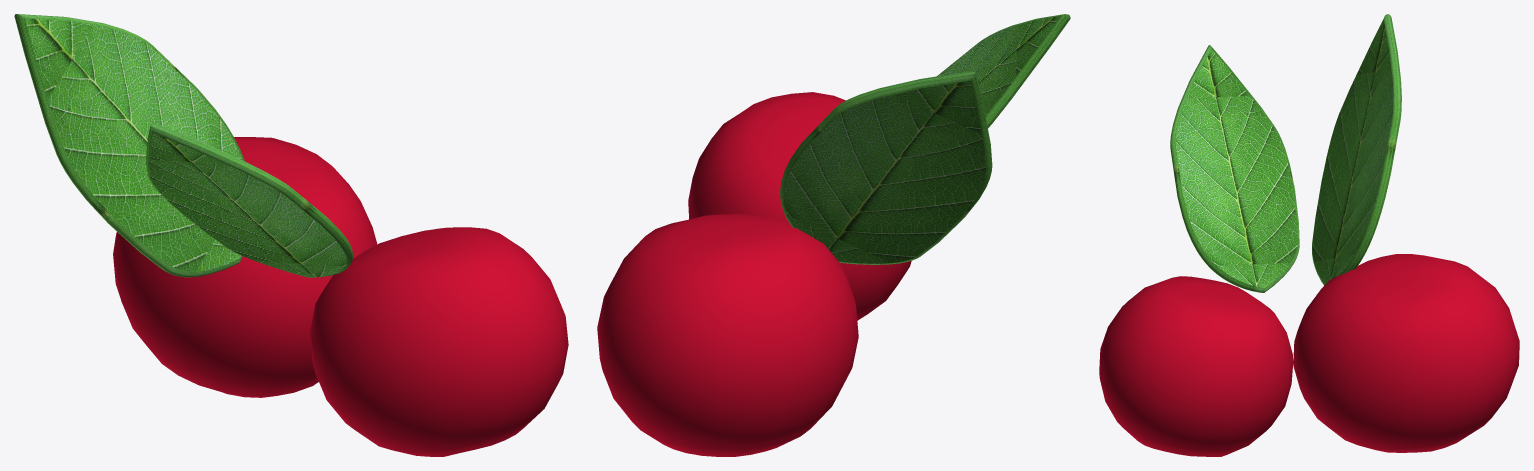
The model's file is cranberries.fbx.
The picture shows the model from 3 angles, left to right: view 1: azimuth 30°, elevation 25°; view 2: azimuth 150°, elevation 25°; view 3: azimuth 270°, elevation 25°; orthographic projection. The views are drawn at different scales.
Parts seen in each view (by area): view 1: Sphere_1, Sphere, Cap_1, Cap_1_2, Rounding_1, Rounding_1_2, Rounding_2_2, Extrude_1; view 2: Sphere, Cap_2, Sphere_1, Cap_2_2, Rounding_2, Rounding_2_2, Extrude_1; view 3: Sphere, Sphere_1, Cap_2_2, Cap_1, Rounding_2_2, Rounding_1, Rounding_2, Extrude_1.
Boxes of the visible parts, x1=… form: Sphere_1: x1=310, y1=227, x2=568, y2=456; Sphere: x1=113, y1=137, x2=377, y2=397; Cap_1: x1=25, y1=18, x2=242, y2=271; Cap_1_2: x1=149, y1=133, x2=346, y2=277; Rounding_1: x1=16, y1=14, x2=244, y2=277; Rounding_1_2: x1=146, y1=125, x2=352, y2=277; Rounding_2_2: x1=151, y1=122, x2=352, y2=251; Extrude_1: x1=15, y1=14, x2=196, y2=277; Sphere: x1=597, y1=214, x2=858, y2=456; Cap_2: x1=783, y1=81, x2=986, y2=263; Sphere_1: x1=688, y1=92, x2=911, y2=320; Cap_2_2: x1=937, y1=16, x2=1059, y2=115; Rounding_2: x1=780, y1=73, x2=991, y2=264; Rounding_2_2: x1=937, y1=14, x2=1068, y2=122; Extrude_1: x1=784, y1=71, x2=992, y2=172; Sphere: x1=1293, y1=254, x2=1519, y2=452; Sphere_1: x1=1099, y1=276, x2=1293, y2=456; Cap_2_2: x1=1176, y1=49, x2=1297, y2=287; Cap_1: x1=1312, y1=19, x2=1393, y2=284; Rounding_2_2: x1=1171, y1=45, x2=1299, y2=292; Rounding_1: x1=1312, y1=14, x2=1398, y2=285; Rounding_2: x1=1353, y1=15, x2=1401, y2=269; Extrude_1: x1=1351, y1=14, x2=1399, y2=270.
Size of the model in its own units: 347 by 350 by 400.
11 materials, 10 textured.
